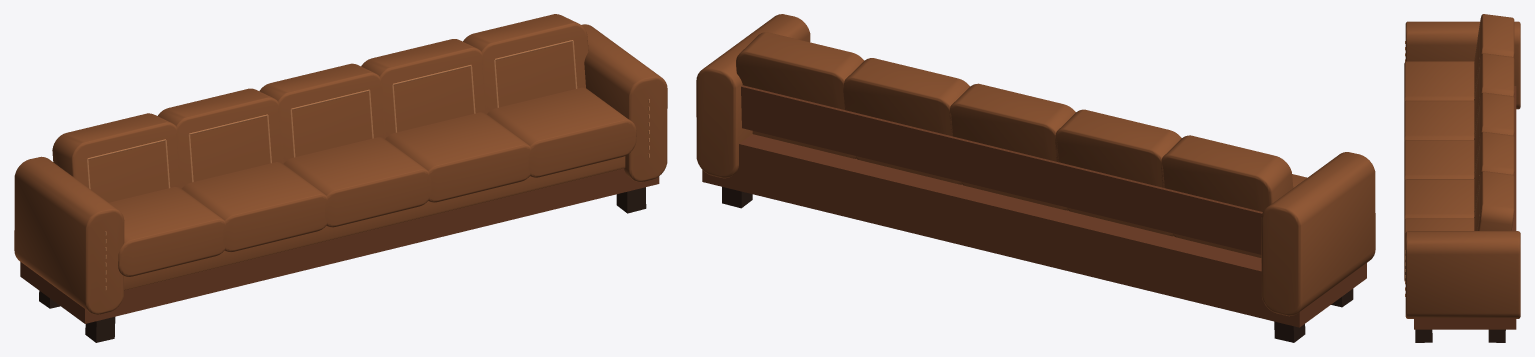
File: cognac-leather-sofa-seatCount-max.glb
The picture shows the model from 3 angles, left to right: view 1: azimuth 30°, elevation 25°; view 2: azimuth 150°, elevation 25°; view 3: azimuth 270°, elevation 25°; orthographic projection. The views are drawn at different scales.
Parts seen in each view (by area): view 1: sofa-part-4, sofa-part-28, seat-cushion-1-part-0, seat-cushion-3-part-0, back-cushion-5-part-0, back-cushion-4-part-0, seat-cushion-4-part-0, back-cushion-1-part-0, back-cushion-3-part-0, seat-cushion-2-part-0, back-cushion-2-part-0, seat-cushion-5-part-0 (+4 smaller); view 2: sofa-part-4, sofa-part-6, sofa-part-28, back-cushion-5-part-0, back-cushion-2-part-0, back-cushion-4-part-0, sofa-part-7, back-cushion-1-part-0, back-cushion-3-part-0; view 3: sofa-part-7, sofa-part-28, seat-cushion-5-part-0, seat-cushion-2-part-0, seat-cushion-4-part-0, seat-cushion-3-part-0, back-cushion-1-part-0, sofa-part-4, back-cushion-4-part-0, back-cushion-2-part-0, back-cushion-5-part-0, back-cushion-3-part-0 (+3 smaller).
Boxes of the visible parts, <box> form: sofa-part-4: <box>20,168,659,323</box>; sofa-part-28: <box>14,156,124,314</box>; seat-cushion-1-part-0: <box>487,87,636,177</box>; seat-cushion-3-part-0: <box>283,137,431,227</box>; back-cushion-5-part-0: <box>52,113,182,202</box>; back-cushion-4-part-0: <box>158,88,283,188</box>; seat-cushion-4-part-0: <box>181,162,328,252</box>; back-cushion-1-part-0: <box>463,14,588,113</box>; back-cushion-3-part-0: <box>259,63,385,163</box>; seat-cushion-2-part-0: <box>385,112,532,202</box>; back-cushion-2-part-0: <box>361,39,487,138</box>; seat-cushion-5-part-0: <box>109,187,226,276</box>; sofa-part-4: <box>702,134,1366,327</box>; sofa-part-6: <box>741,85,1262,254</box>; sofa-part-28: <box>1261,152,1375,316</box>; back-cushion-5-part-0: <box>1161,135,1293,211</box>; back-cushion-2-part-0: <box>843,58,969,136</box>; back-cushion-4-part-0: <box>1055,109,1181,187</box>; sofa-part-7: <box>696,14,810,178</box>; back-cushion-1-part-0: <box>736,32,864,110</box>; back-cushion-3-part-0: <box>949,83,1075,161</box>; sofa-part-7: <box>1405,231,1520,318</box>; sofa-part-28: <box>1405,21,1520,109</box>; seat-cushion-5-part-0: <box>1404,61,1474,102</box>; seat-cushion-2-part-0: <box>1404,179,1474,219</box>; seat-cushion-4-part-0: <box>1404,100,1474,141</box>; seat-cushion-3-part-0: <box>1404,140,1474,180</box>; back-cushion-1-part-0: <box>1474,171,1514,230</box>; sofa-part-4: <box>1414,86,1516,329</box>; back-cushion-4-part-0: <box>1474,53,1514,139</box>; back-cushion-2-part-0: <box>1474,131,1514,214</box>; back-cushion-5-part-0: <box>1474,14,1514,99</box>; back-cushion-3-part-0: <box>1474,92,1514,175</box>.
Bounding box in the file's own units: 4.05 × 1.08 × 0.886.
